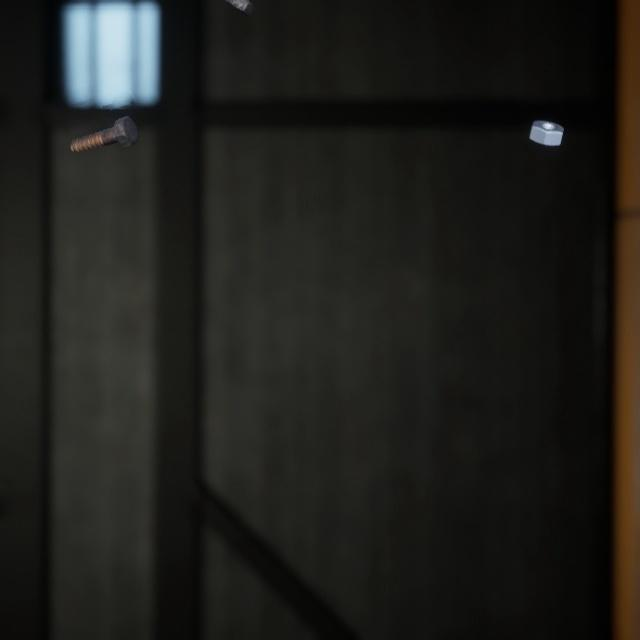bolt: (65, 99, 141, 144)
nut: (524, 103, 568, 137)
